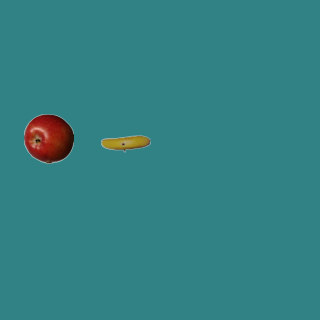Apple Braeburn: (23, 113, 73, 163)
Banana: (100, 118, 150, 168)
